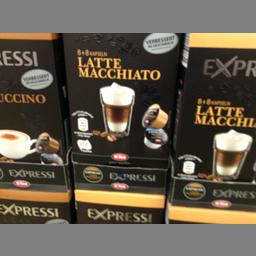coffee: (60, 30, 182, 164), (172, 32, 254, 181), (0, 30, 66, 164)
